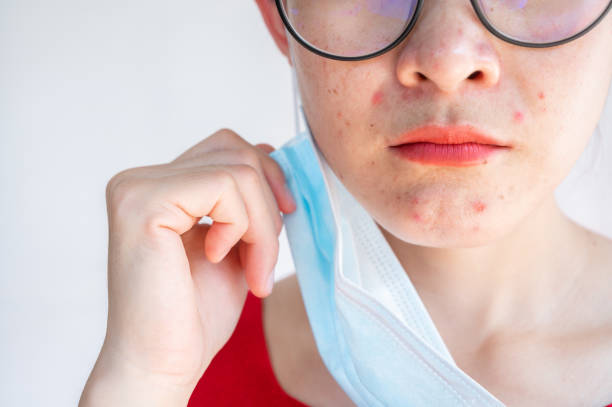without mask: (254, 1, 612, 250)
